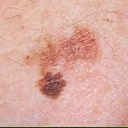Melanoma: (35, 34, 95, 65), (40, 72, 66, 95)
